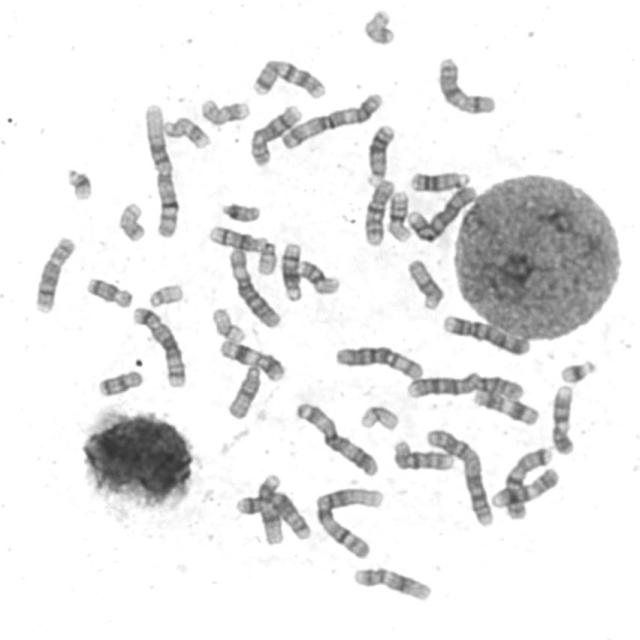A1: (311, 484, 387, 560), (140, 100, 180, 239)
A2: (423, 425, 495, 529), (402, 369, 527, 402)
A3: (291, 398, 381, 478), (277, 88, 386, 151)
B4: (404, 181, 479, 244), (440, 312, 532, 358)
B5: (129, 302, 189, 390), (231, 489, 314, 543)
C10: (361, 176, 396, 248), (389, 436, 455, 473)
C11: (215, 336, 288, 384), (470, 384, 542, 428)
C12: (349, 564, 434, 604), (253, 471, 286, 546)
C6: (226, 244, 284, 330), (332, 342, 426, 382)
C7: (499, 443, 556, 520), (248, 55, 328, 100)
C8: (30, 233, 77, 315), (247, 101, 304, 168)
C9: (488, 464, 562, 511), (548, 382, 577, 456)
D13: (363, 120, 398, 188), (407, 168, 472, 194)
D14: (206, 222, 265, 254), (277, 240, 305, 304)
D15: (224, 362, 263, 422), (404, 256, 446, 311)
E16: (295, 256, 342, 296), (384, 187, 413, 244)
E17: (160, 114, 213, 151), (196, 95, 252, 126)
E18: (82, 274, 134, 310), (94, 367, 145, 399)
F19: (208, 304, 248, 344), (356, 402, 400, 433)
F20: (115, 198, 147, 244), (361, 5, 396, 47)
G21: (62, 164, 95, 202), (556, 356, 598, 385)
G22: (145, 280, 186, 309), (254, 237, 278, 277)
X: (435, 54, 499, 116)
Y: (219, 198, 262, 224)
